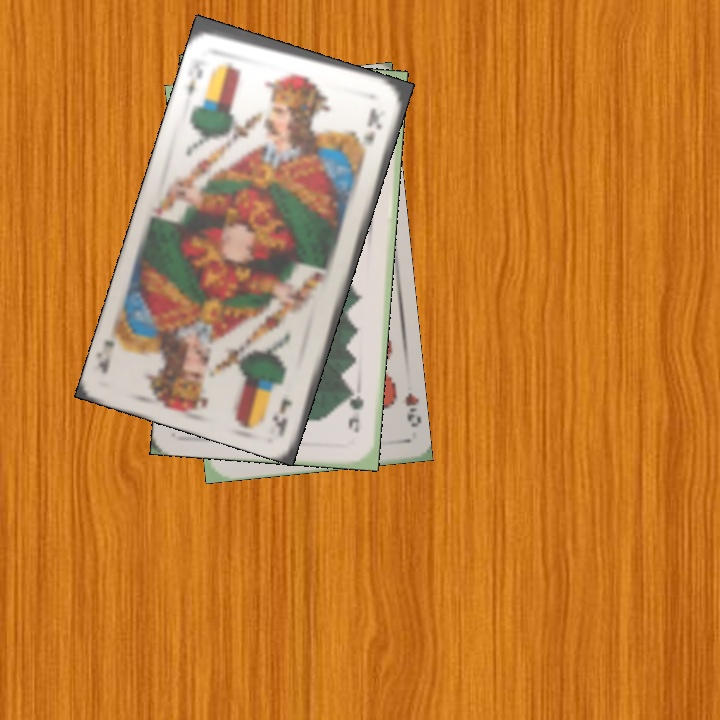EK: (182, 56, 211, 101), (269, 393, 295, 433)
G9: (345, 385, 367, 435)
H9: (401, 388, 421, 430)
